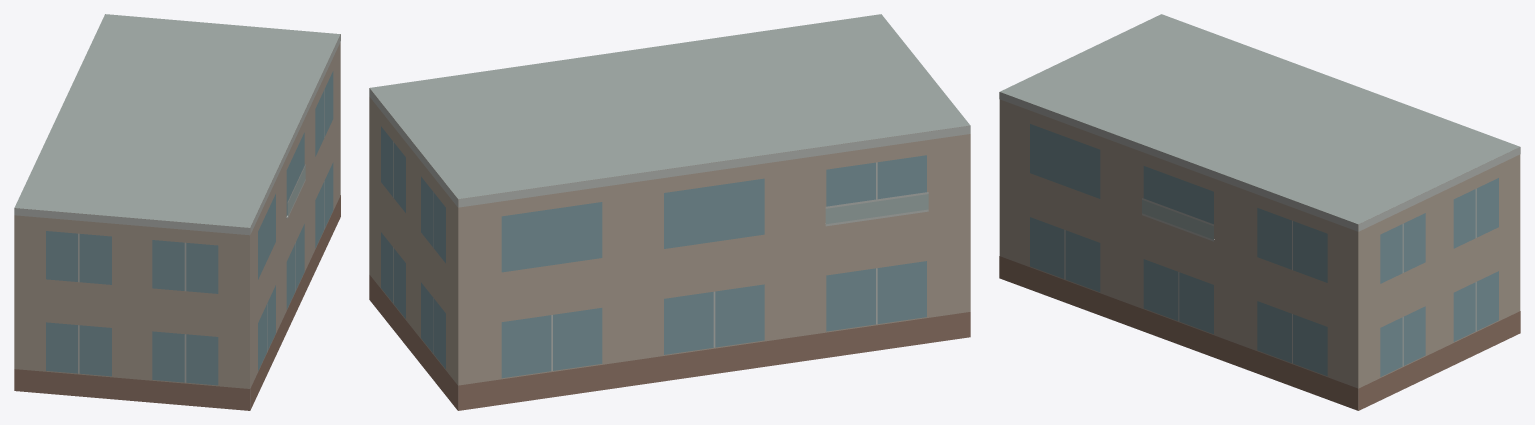
Rendered from survey-upis-32825683.glb.
3 renders of one model, left to right at view 1: azimuth 30°, elevation 25°; view 2: azimuth 150°, elevation 25°; view 3: azimuth 270°, elevation 25°, orthographic. The views are drawn at different scales.
Visible parts, largest first — view 1: survey-upis-32825683.tmp; view 2: survey-upis-32825683.tmp; view 3: survey-upis-32825683.tmp.
Boxes of the visible parts, box(x1,y1,x2,y2) form: survey-upis-32825683.tmp: box(14, 14, 340, 410); survey-upis-32825683.tmp: box(369, 14, 970, 410); survey-upis-32825683.tmp: box(999, 14, 1520, 410).
Size of the model in its own units: 14.77 by 6.1 by 15.45.
